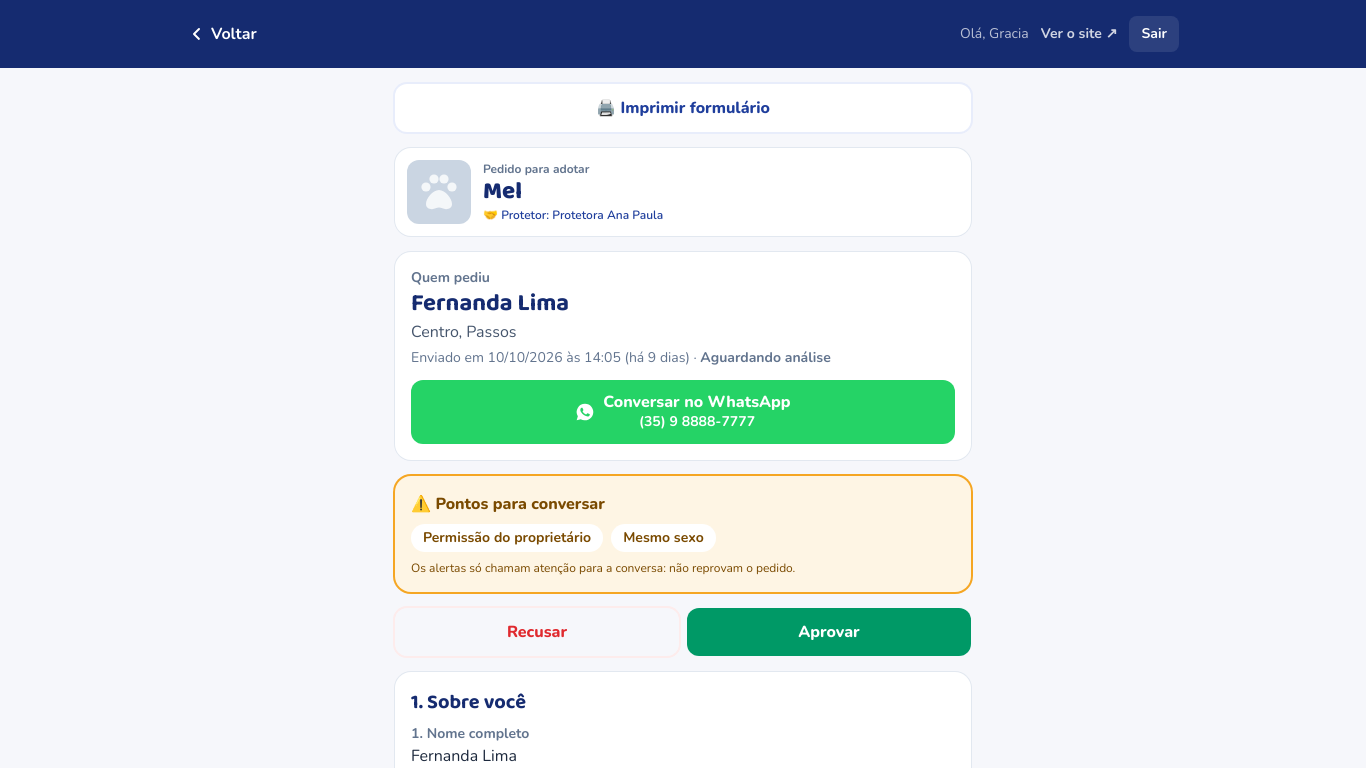
Test case: Análise do pedido (T28) › recusar pede confirmação e devolve o animal ao site (RN49)
Click the button "Recusar".
click(537, 632)  # box [395,608,679,656]
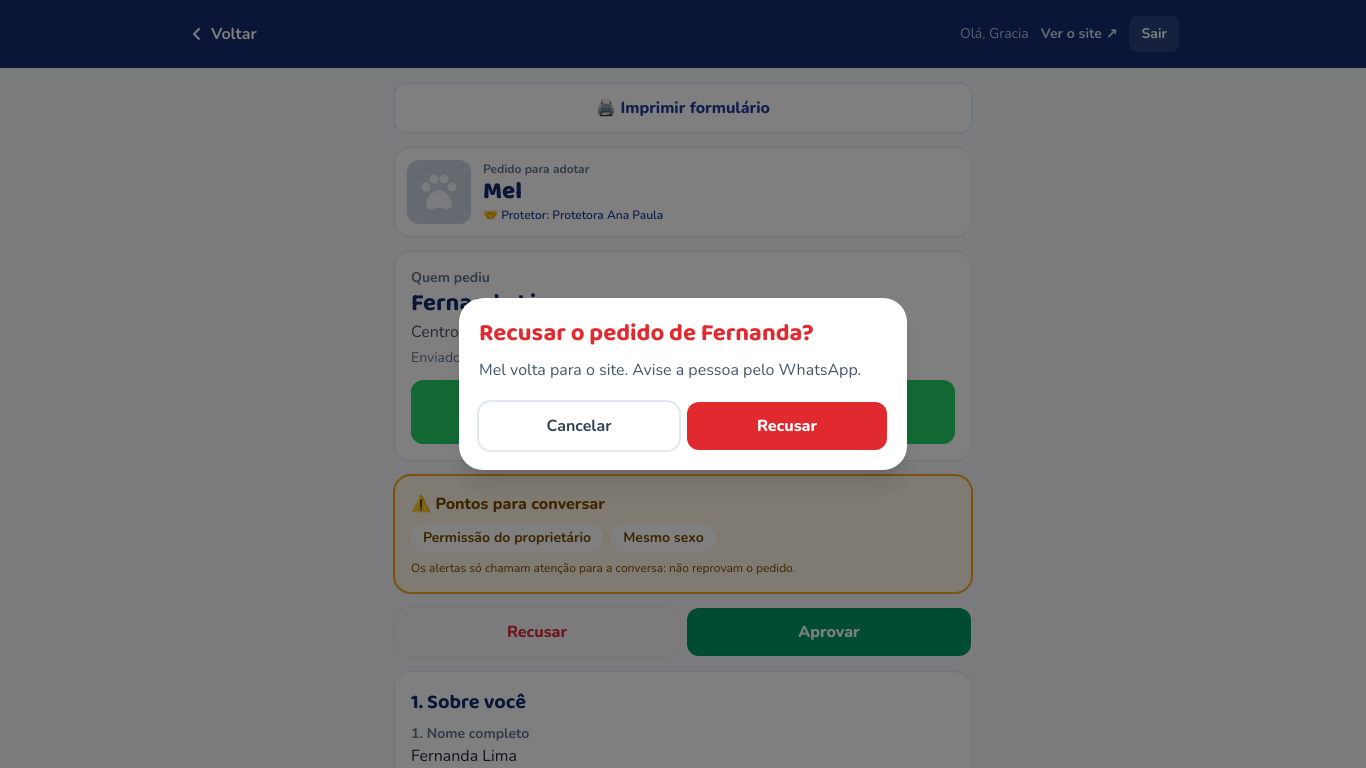
Expected: the text "Mel volta para o site. Avise a pessoa pelo WhatsApp." is shown, [479,358,887,382]
Click the button "Recusar".
click(787, 426)  # box [687,402,887,450]
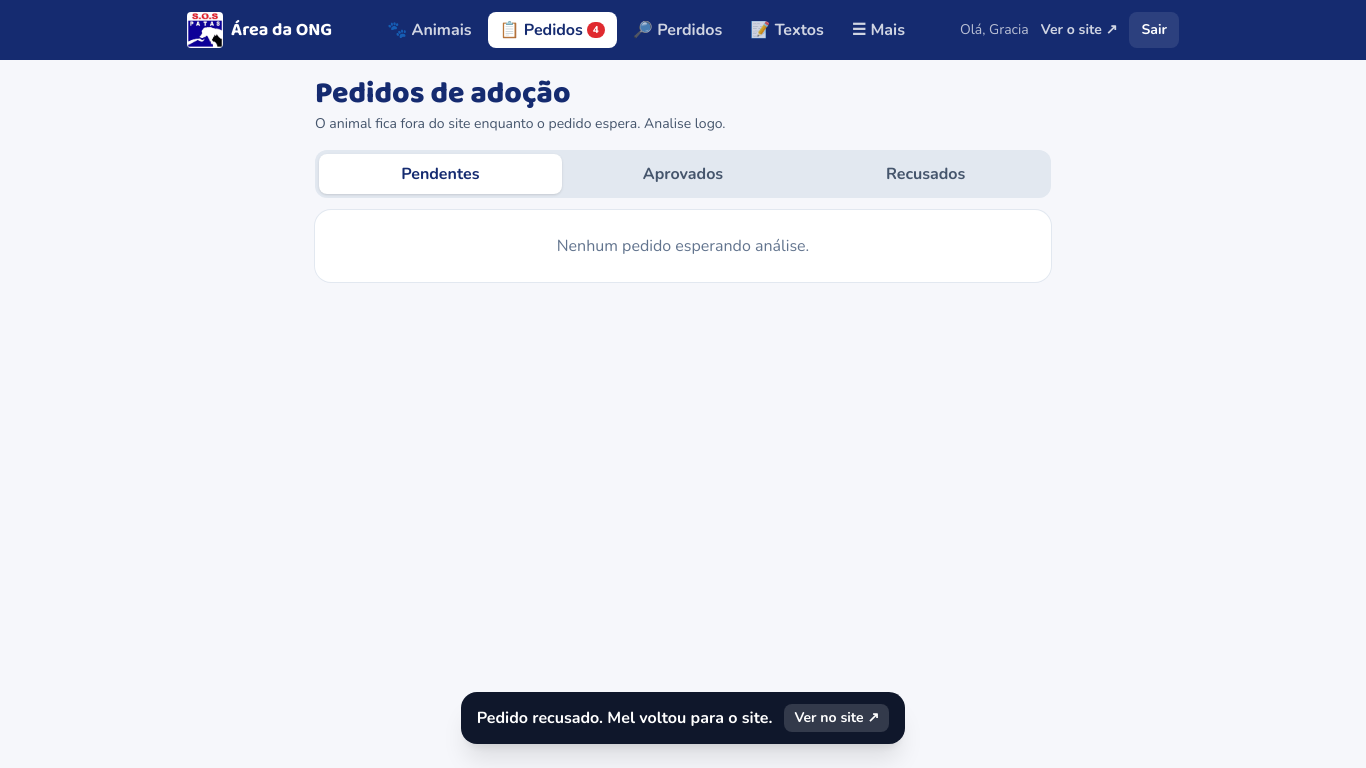
Expected: the text "Pedido recusado. Mel voltou para o site." is shown, [477,707,772,729]
Expected: the list item "Nenhum pedido esperando análise." is shown, [315,210,1051,282]
